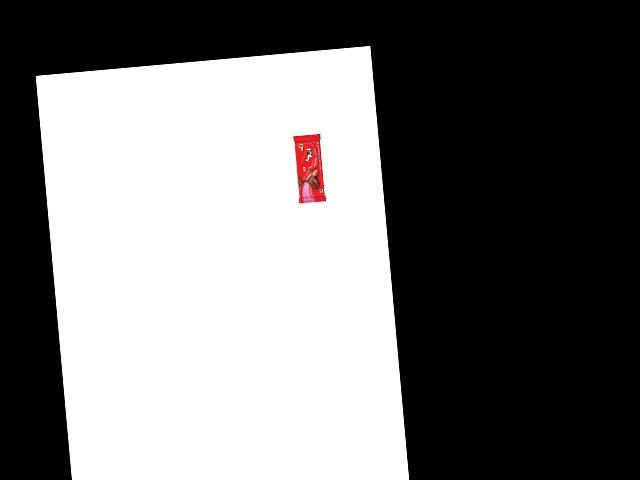chocolate: (293, 128, 330, 203)
